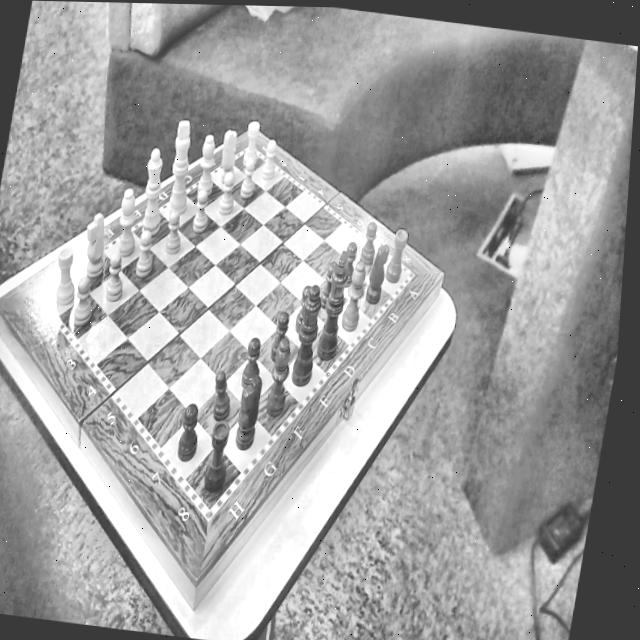chessboard: (46, 148, 407, 506)
